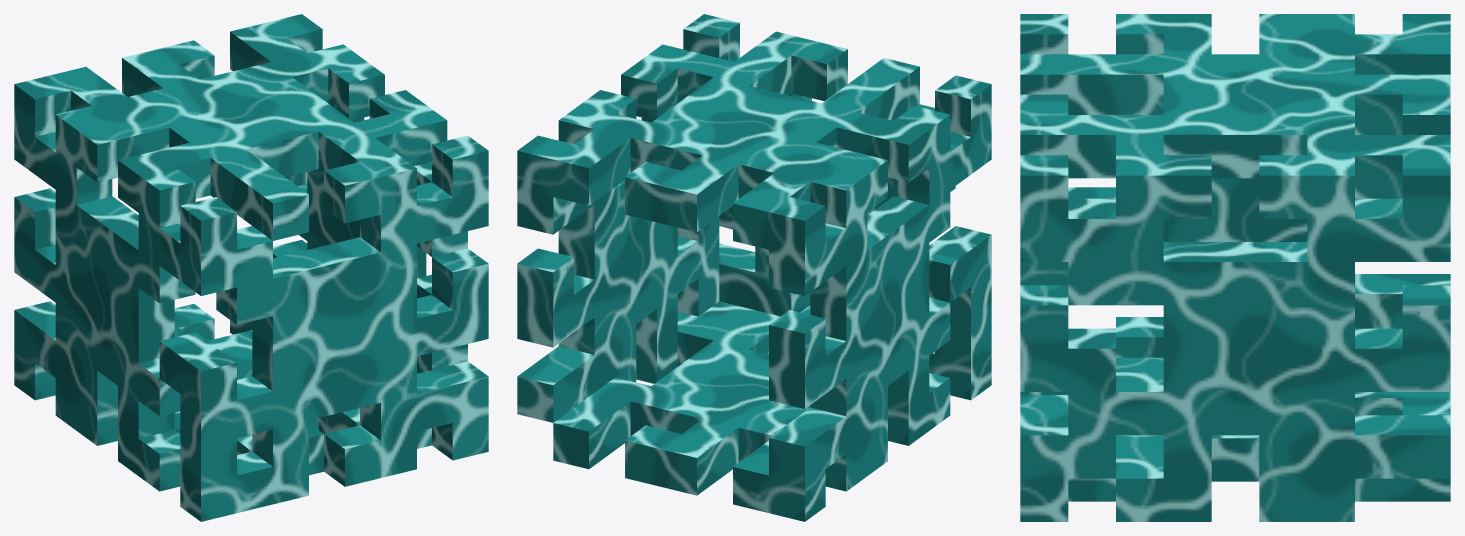
The model's file is water_switch_yes.obj.
3 renders of one model, left to right at view 1: azimuth 30°, elevation 25°; view 2: azimuth 150°, elevation 25°; view 3: azimuth 270°, elevation 25°, orthographic. The views are drawn at different scales.
Visible parts, largest first — view 1: ObjObject.001; view 2: ObjObject.001; view 3: ObjObject.001.
Part boxes in pixels (x1=…): ObjObject.001: x1=14, y1=14, x2=488, y2=521; ObjObject.001: x1=517, y1=14, x2=991, y2=521; ObjObject.001: x1=1020, y1=14, x2=1450, y2=521.
Size of the model in its own units: 0.8 by 0.8 by 0.9.
Materials: 1 (1 with a texture image).
